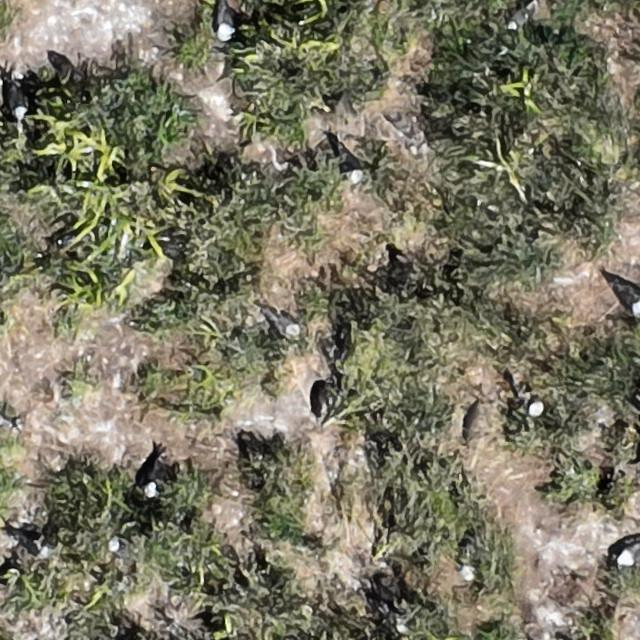umineko: (263, 301, 306, 340), (334, 137, 366, 187), (453, 530, 482, 583), (108, 532, 144, 559), (143, 453, 164, 498), (9, 82, 27, 119), (617, 284, 639, 314), (508, 4, 535, 28), (217, 5, 234, 39), (618, 544, 638, 566), (527, 398, 545, 418), (0, 413, 11, 429)
